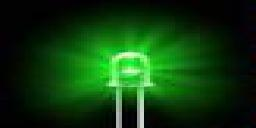LED: (104, 49, 155, 128)
